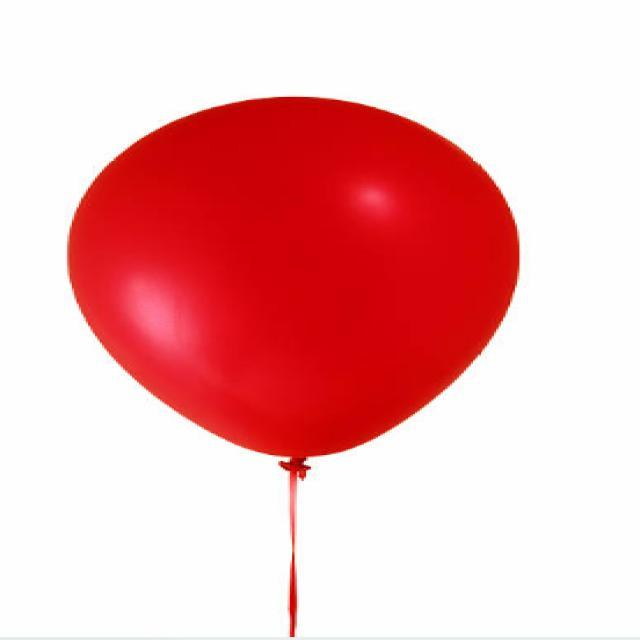red: (65, 94, 521, 636)
